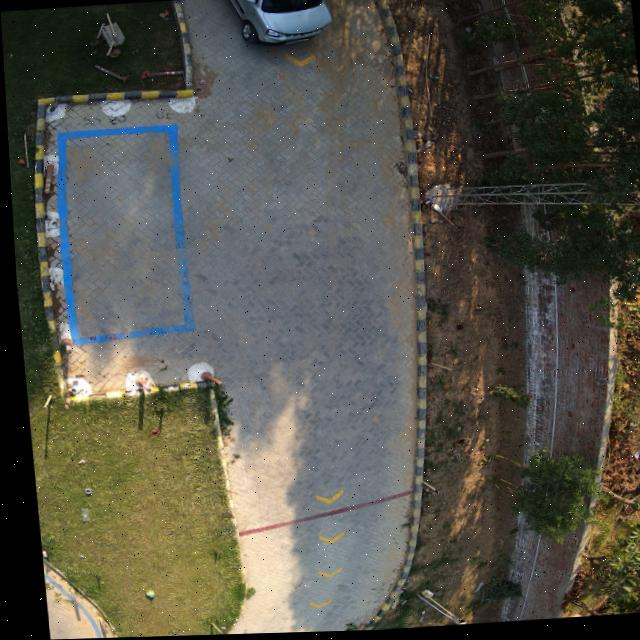car: (226, 0, 330, 46)
